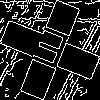E: (25, 25, 73, 79)
